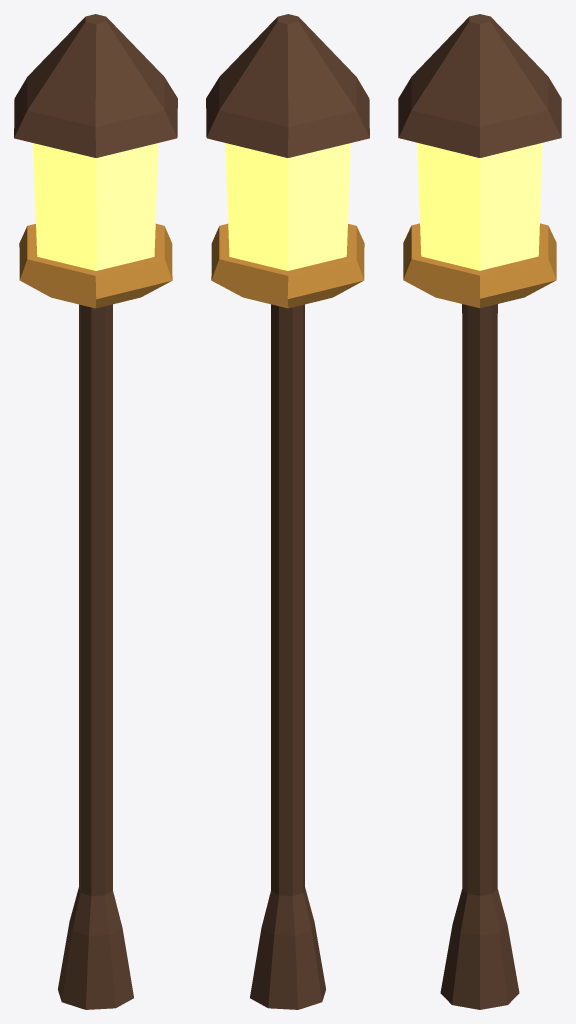
Rendered from amber-lamp-low.glb.
3 views of the same model, side by side, from view 1: azimuth 30°, elevation 25°; view 2: azimuth 150°, elevation 25°; view 3: azimuth 270°, elevation 25° (orthographic).
Visible parts, largest first — view 1: amber-lamp-low · Patinated bronze, amber-lamp-low · Amber lamp glass, amber-lamp-low · Hammered brass; view 2: amber-lamp-low · Patinated bronze, amber-lamp-low · Amber lamp glass, amber-lamp-low · Hammered brass; view 3: amber-lamp-low · Patinated bronze, amber-lamp-low · Amber lamp glass, amber-lamp-low · Hammered brass.
Part boxes in pixels (box(x1,y1,x2,y2)): amber-lamp-low · Patinated bronze: box(14, 14, 177, 1009); amber-lamp-low · Amber lamp glass: box(33, 143, 158, 270); amber-lamp-low · Hammered brass: box(19, 223, 172, 308); amber-lamp-low · Patinated bronze: box(206, 14, 369, 1009); amber-lamp-low · Amber lamp glass: box(225, 143, 350, 270); amber-lamp-low · Hammered brass: box(211, 223, 364, 308); amber-lamp-low · Patinated bronze: box(398, 14, 561, 1009); amber-lamp-low · Amber lamp glass: box(417, 143, 542, 270); amber-lamp-low · Hammered brass: box(403, 223, 556, 308).
Bounding box in the file's own units: 0.6211 × 3.53 × 0.5352.
